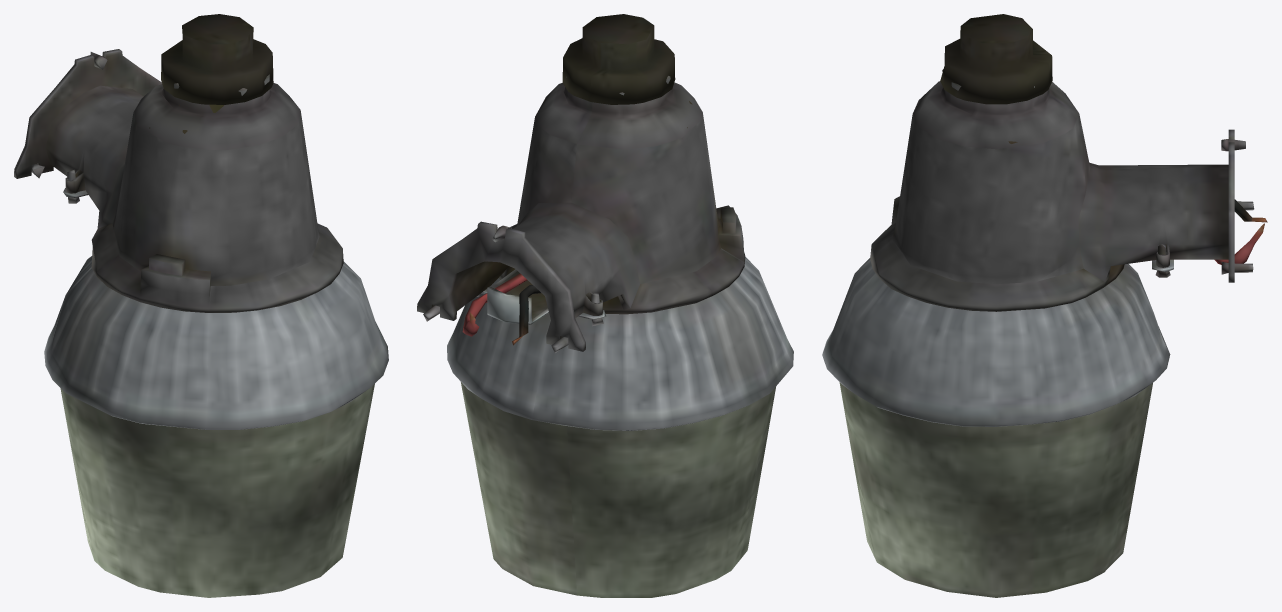
The model's file is security_light.slim.glb.
3 renders of one model, left to right at view 1: azimuth 30°, elevation 25°; view 2: azimuth 150°, elevation 25°; view 3: azimuth 270°, elevation 25°, orthographic.
Size of the model in its own units: 0.3231 by 0.531 by 0.4172.
2 materials, 2 textured.
